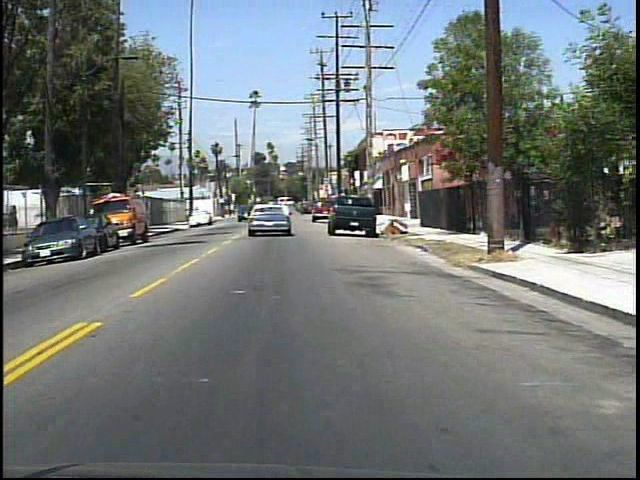person: (8, 203, 21, 235)
